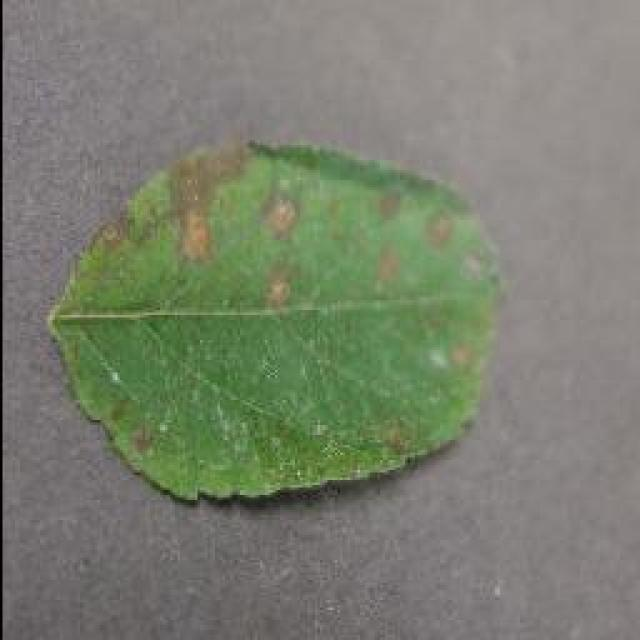apple cedar apple rust: (45, 135, 505, 505)
